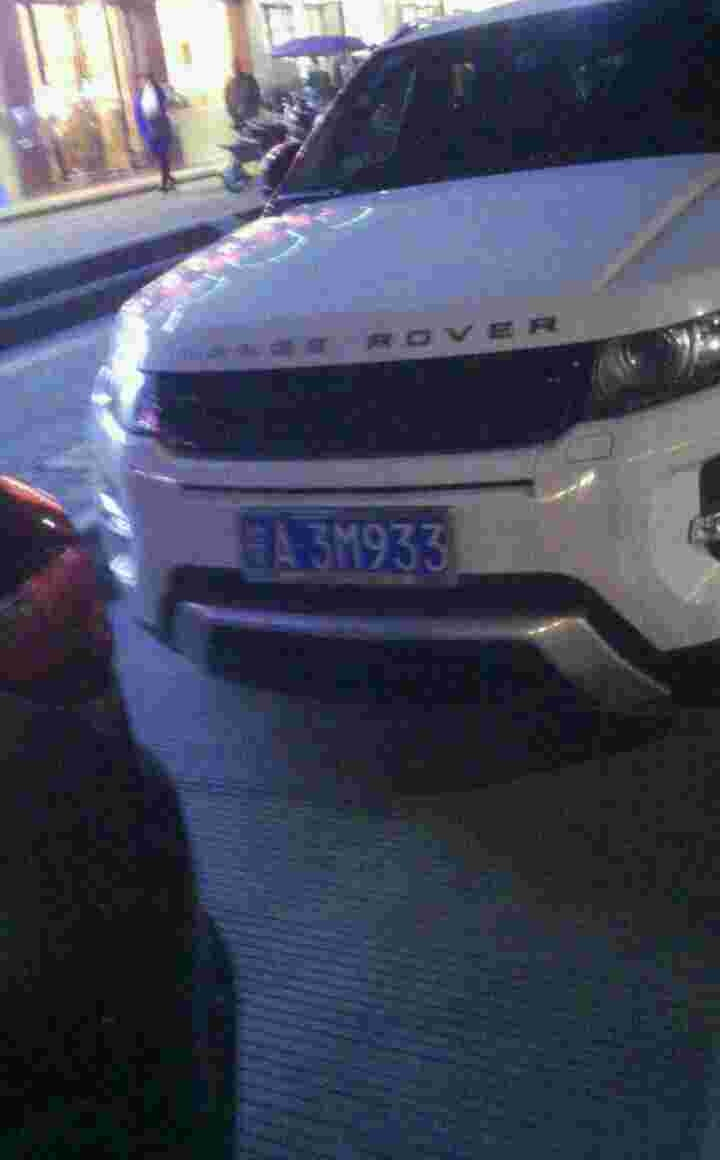license_plate: (235, 505, 462, 582)
